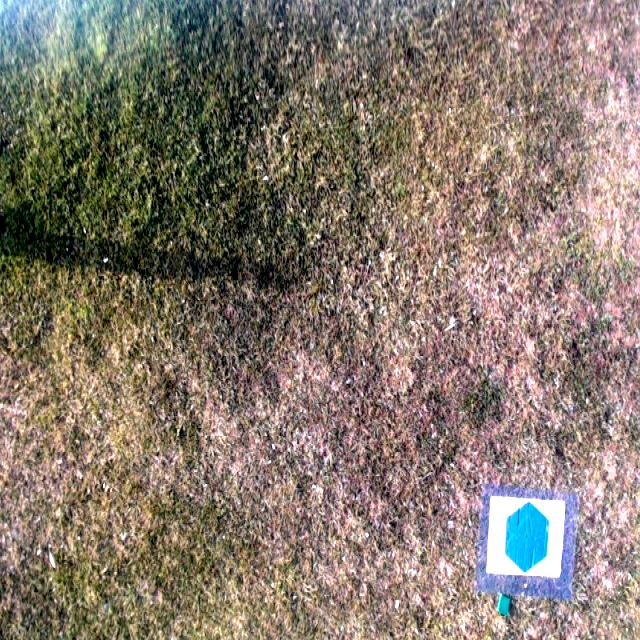blue_hexagon: (504, 502, 549, 571)
